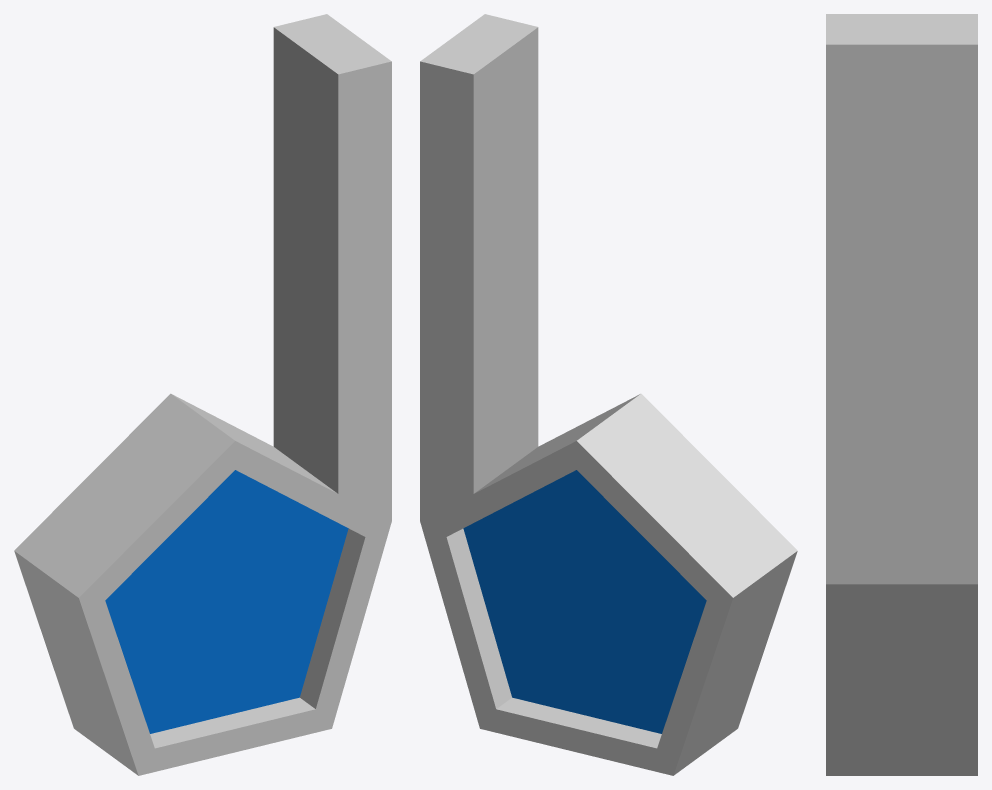
Rendered from negra.fbx.
3 views of the same model, side by side, from view 1: azimuth 30°, elevation 25°; view 2: azimuth 150°, elevation 25°; view 3: azimuth 270°, elevation 25° (orthographic). The views are drawn at different scales.
Visible parts, largest first — view 1: negra; view 2: negra; view 3: negra.
Part boxes in pixels (box(x1,y1,x2,y2)): negra: box(14, 14, 391, 775); negra: box(420, 14, 797, 775); negra: box(826, 14, 977, 775).
Size of the model in its own units: 190 by 379 by 68.2.
